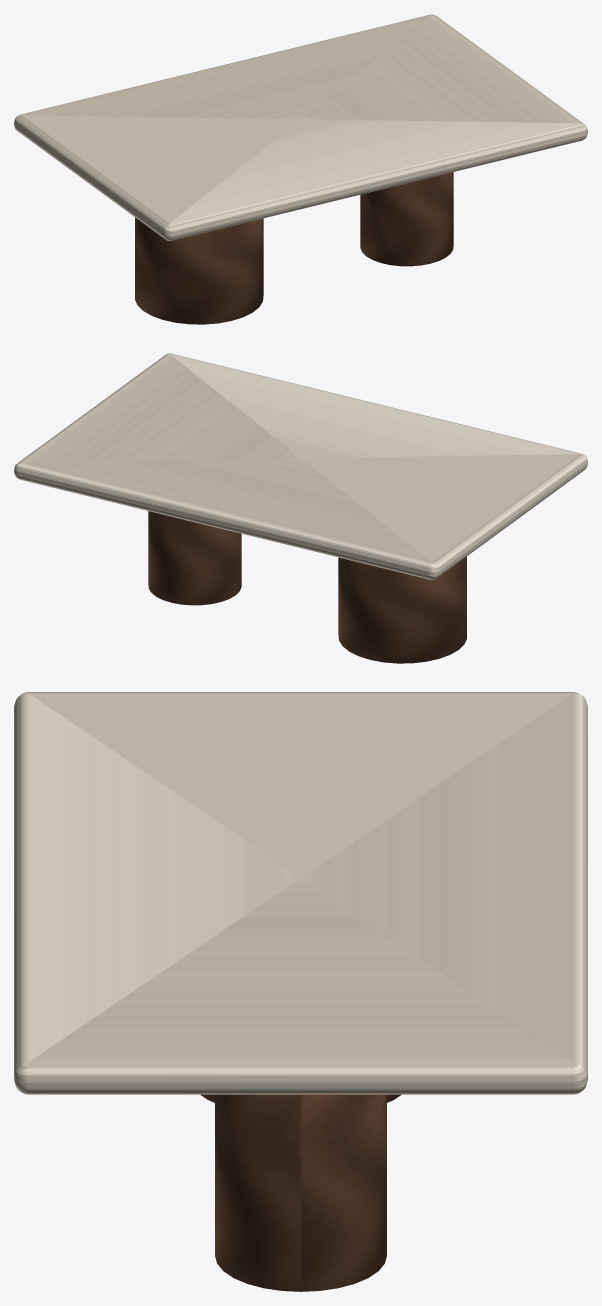
File: obj_birim_coffee_table.glb
3 renders of one model, top to bottom at view 1: azimuth 30°, elevation 25°; view 2: azimuth 150°, elevation 25°; view 3: azimuth 270°, elevation 25°, orthographic. The views are drawn at different scales.
Visible parts, largest first — view 1: obj_birim_coffee_table; view 2: obj_birim_coffee_table; view 3: obj_birim_coffee_table.
Part boxes in pixels (x1,y1,x2,y2): obj_birim_coffee_table: (14,14,587,324); obj_birim_coffee_table: (14,353,587,663); obj_birim_coffee_table: (14,692,587,1291).
Bounding box in the file's own units: 1.1 × 0.38 × 0.7.
Materials: 2 (2 with a texture image).
